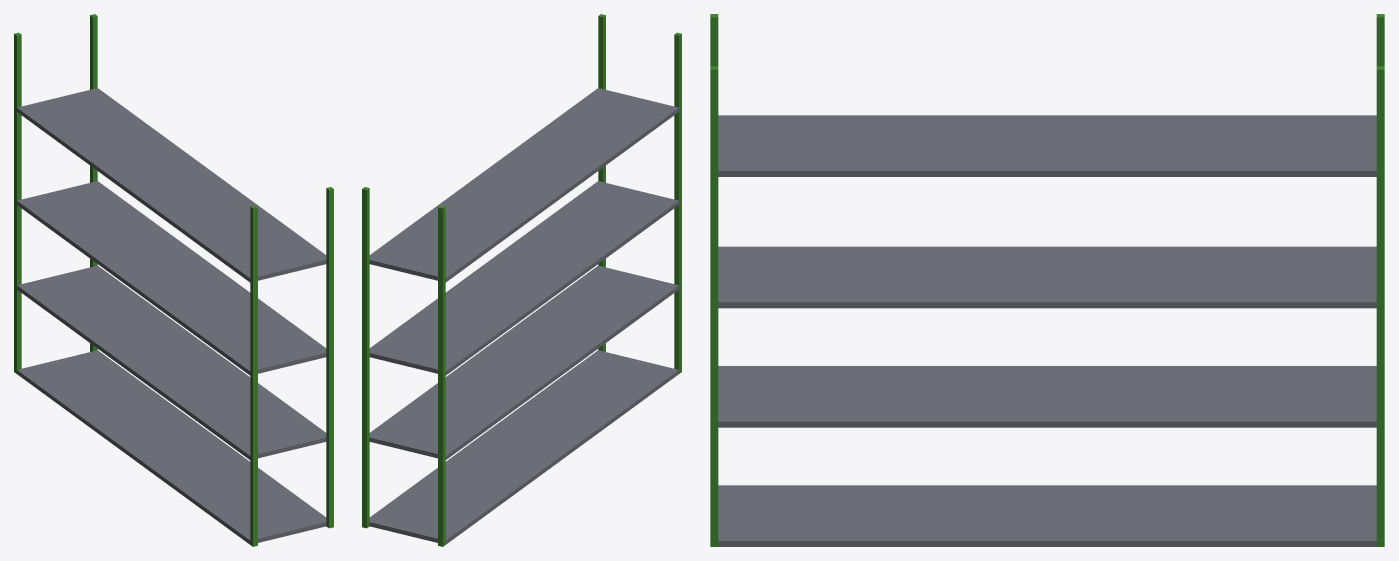
Rendered from reol stor.fbx.
The picture shows the model from 3 angles, left to right: view 1: azimuth 30°, elevation 25°; view 2: azimuth 150°, elevation 25°; view 3: azimuth 270°, elevation 25°; orthographic projection. The views are drawn at different scales.
Visible parts, largest first — view 1: roof_flatCenter (×4), columns_small (×2); view 2: roof_flatCenter (×4), columns_small (×2); view 3: roof_flatCenter (×4), columns_small (×2).
Part boxes in pixels (box(x1,y1,x2,y2)): roof_flatCenter (×4): box(17, 88, 326, 544); columns_small (×2): box(14, 14, 333, 546); roof_flatCenter (×4): box(369, 88, 678, 544); columns_small (×2): box(362, 14, 681, 546); roof_flatCenter (×4): box(718, 115, 1376, 546); columns_small (×2): box(710, 14, 1384, 546).
Size of the model in its own units: 10 by 40 by 51.2.
